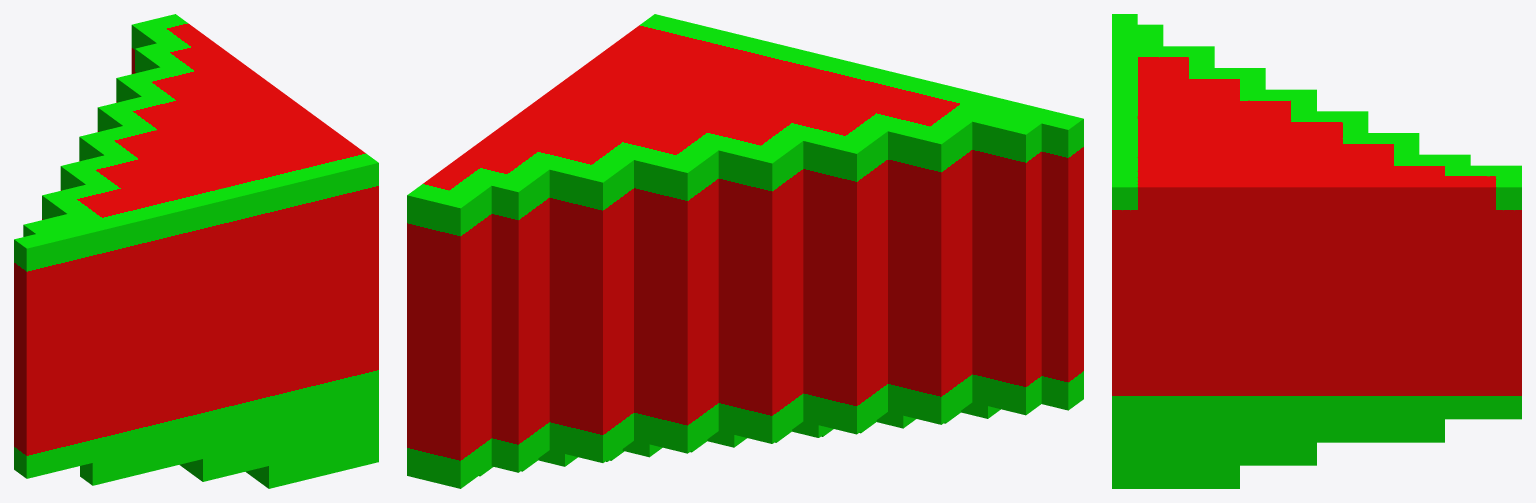
The model's file is Boat_Front_0.fbx.
3 renders of one model, left to right at view 1: azimuth 30°, elevation 25°; view 2: azimuth 150°, elevation 25°; view 3: azimuth 270°, elevation 25°, orthographic. The views are drawn at different scales.
Visible parts, largest first — view 1: Boat_Front_0.001; view 2: Boat_Front_0.001; view 3: Boat_Front_0.001.
Boxes of the visible parts, x1,y1,x2,y2 form: Boat_Front_0.001: [14, 14, 378, 488]; Boat_Front_0.001: [407, 14, 1083, 488]; Boat_Front_0.001: [1112, 14, 1521, 488].
Size of the model in its own units: 1.6 by 1.3 by 1.6.
1 material, 1 textured.
